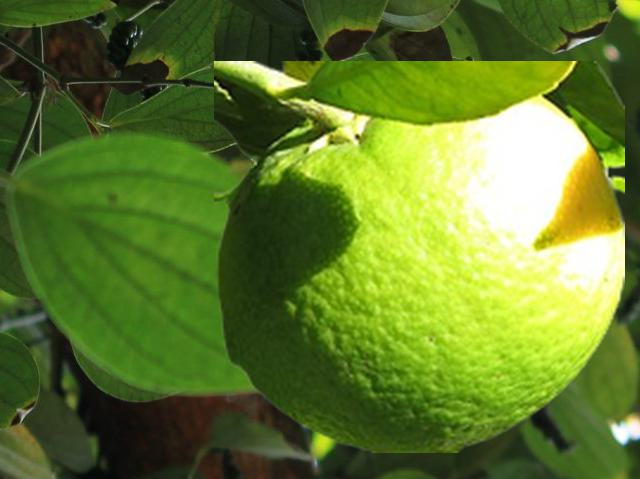dalandan: (214, 61, 623, 451)
